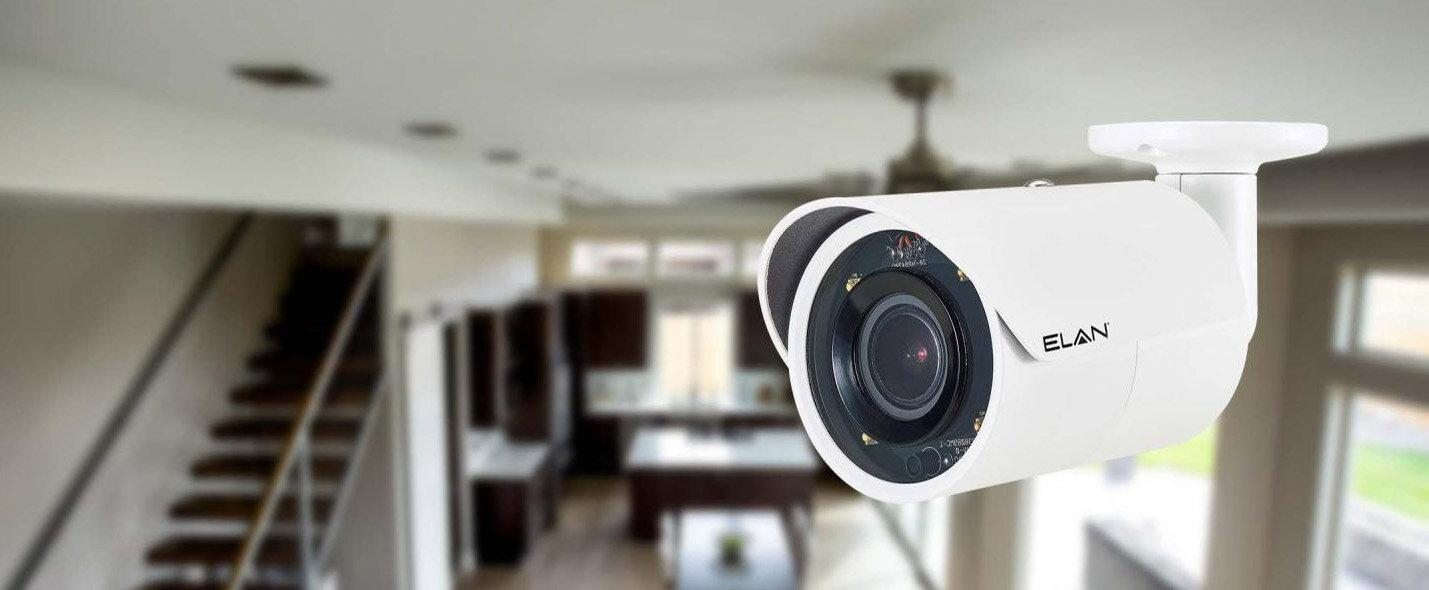CCTV: (759, 120, 1329, 503)
